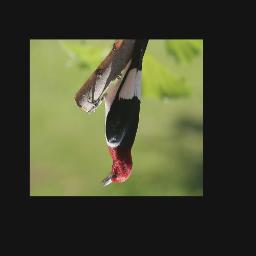Woodpecker: (96, 40, 151, 189)
